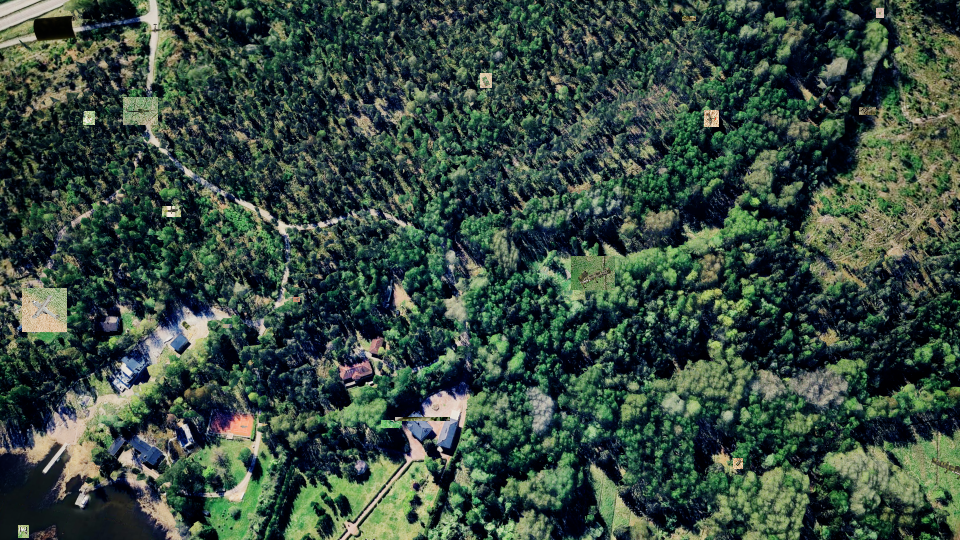condor: (22, 288, 67, 332)
hangar: (395, 417, 450, 421)
helicopter: (123, 97, 158, 125)
jammer: (480, 73, 492, 88)
jet_plane: (381, 420, 402, 428)
large_launcher: (571, 256, 615, 290)
large_tower: (859, 107, 876, 115)
medium_launcher: (682, 16, 696, 21)
medium_plane: (162, 206, 181, 217)
mine_roller: (733, 458, 743, 469)
small_launcher: (876, 8, 884, 18)
small_plane: (704, 110, 719, 127)
small_tower: (83, 111, 95, 125)
spacecraft: (18, 525, 29, 538)
ta-ta: (293, 297, 300, 302)
tank: (223, 324, 232, 328)
